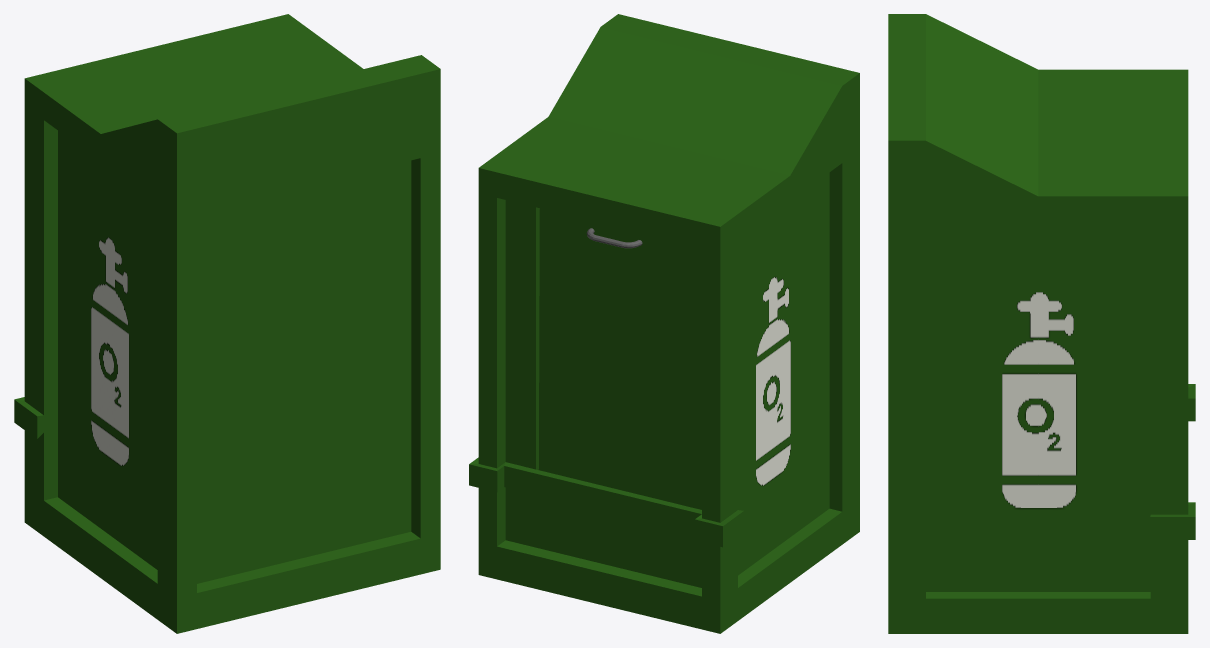
The model's file is oxygendepoclosed6.fbx.
3 views of the same model, side by side, from view 1: azimuth 30°, elevation 25°; view 2: azimuth 150°, elevation 25°; view 3: azimuth 270°, elevation 25° (orthographic). The views are drawn at different scales.
Parts seen in each view (by area): view 1: Cube; view 2: Cube; view 3: Cube.
Boxes of the visible parts, x1,y1,x2,y2 form: Cube: (14,14,440,633); Cube: (469,14,859,633); Cube: (888,14,1195,633).
Size of the model in its own units: 210 by 363 by 205.
Materials: 4 (1 with a texture image).
